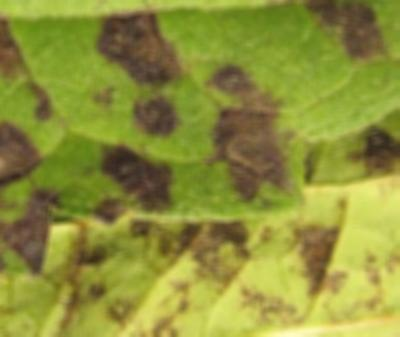Tomato Septoria leaf spot: (0, 64, 400, 337), (0, 0, 400, 256)
